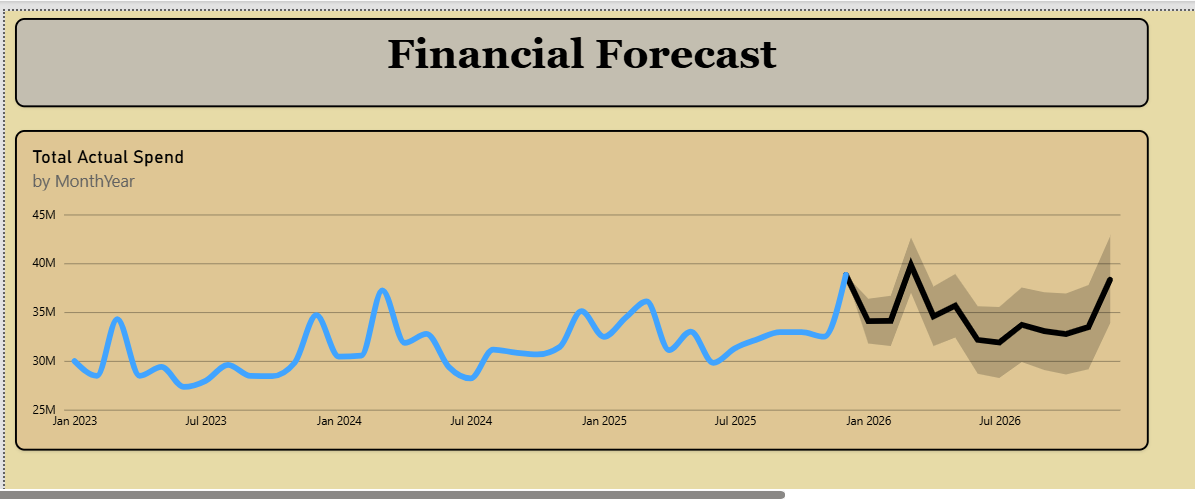

The dashboard page shown, as its layout file describes it:
{"tool":"powerbi","page":{"name":"Page 3","canvas":[1920,1080],"ordinal":2},"visuals":[{"type":"textbox","box":[10.1,7.1,1180.8,92.9],"z":0},{"type":"lineChart","fields":{"Category":["dim_calendar.MonthYear"],"Y":["fact_actual_expenses_CLEANED.Total Actual Spend"]},"box":[10.1,124.2,1180.8,334.3],"z":1000}]}

Visuals, with their boxes on the page's 1920x1080 design canvas (x1, y1, x2, y2). These are canvas units, not pixel positions in the 1195x499 screenshot, which may show the page scaled, cropped or inside an application window:
textbox: (10,7,1191,100)
lineChart - dim_calendar.MonthYear x fact_actual_expenses_CLEANED.Total Actual Spend: (10,124,1191,458)
